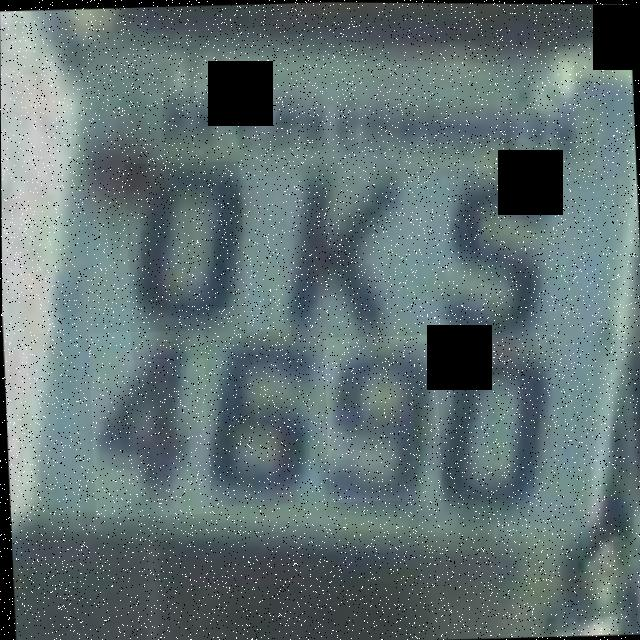0: (426, 326, 573, 512)
4: (87, 328, 210, 517)
6: (206, 329, 320, 513)
9: (322, 333, 441, 503)
O: (123, 159, 248, 360)
S: (423, 162, 549, 319)
